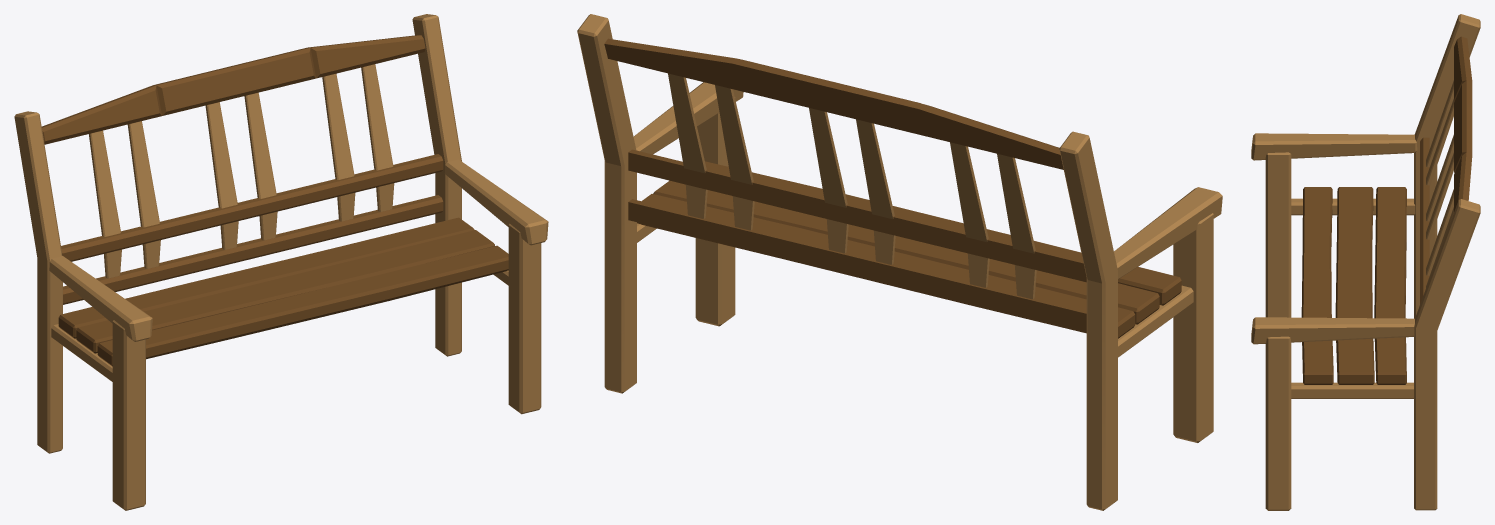
The model's file is bench.glb.
The picture shows the model from 3 angles, left to right: view 1: azimuth 30°, elevation 25°; view 2: azimuth 150°, elevation 25°; view 3: azimuth 270°, elevation 25°; orthographic projection. The views are drawn at different scales.
Parts seen in each view (by area): view 1: bench_b001.001; view 2: bench_b001.001; view 3: bench_b001.001.
Part boxes in pixels (left/top/right/bottom): bench_b001.001: left=14, top=14, right=548, bottom=510; bench_b001.001: left=577, top=14, right=1222, bottom=510; bench_b001.001: left=1251, top=14, right=1480, bottom=510.
Bounding box in the file's own units: 1.38 × 1.01 × 0.6873.
